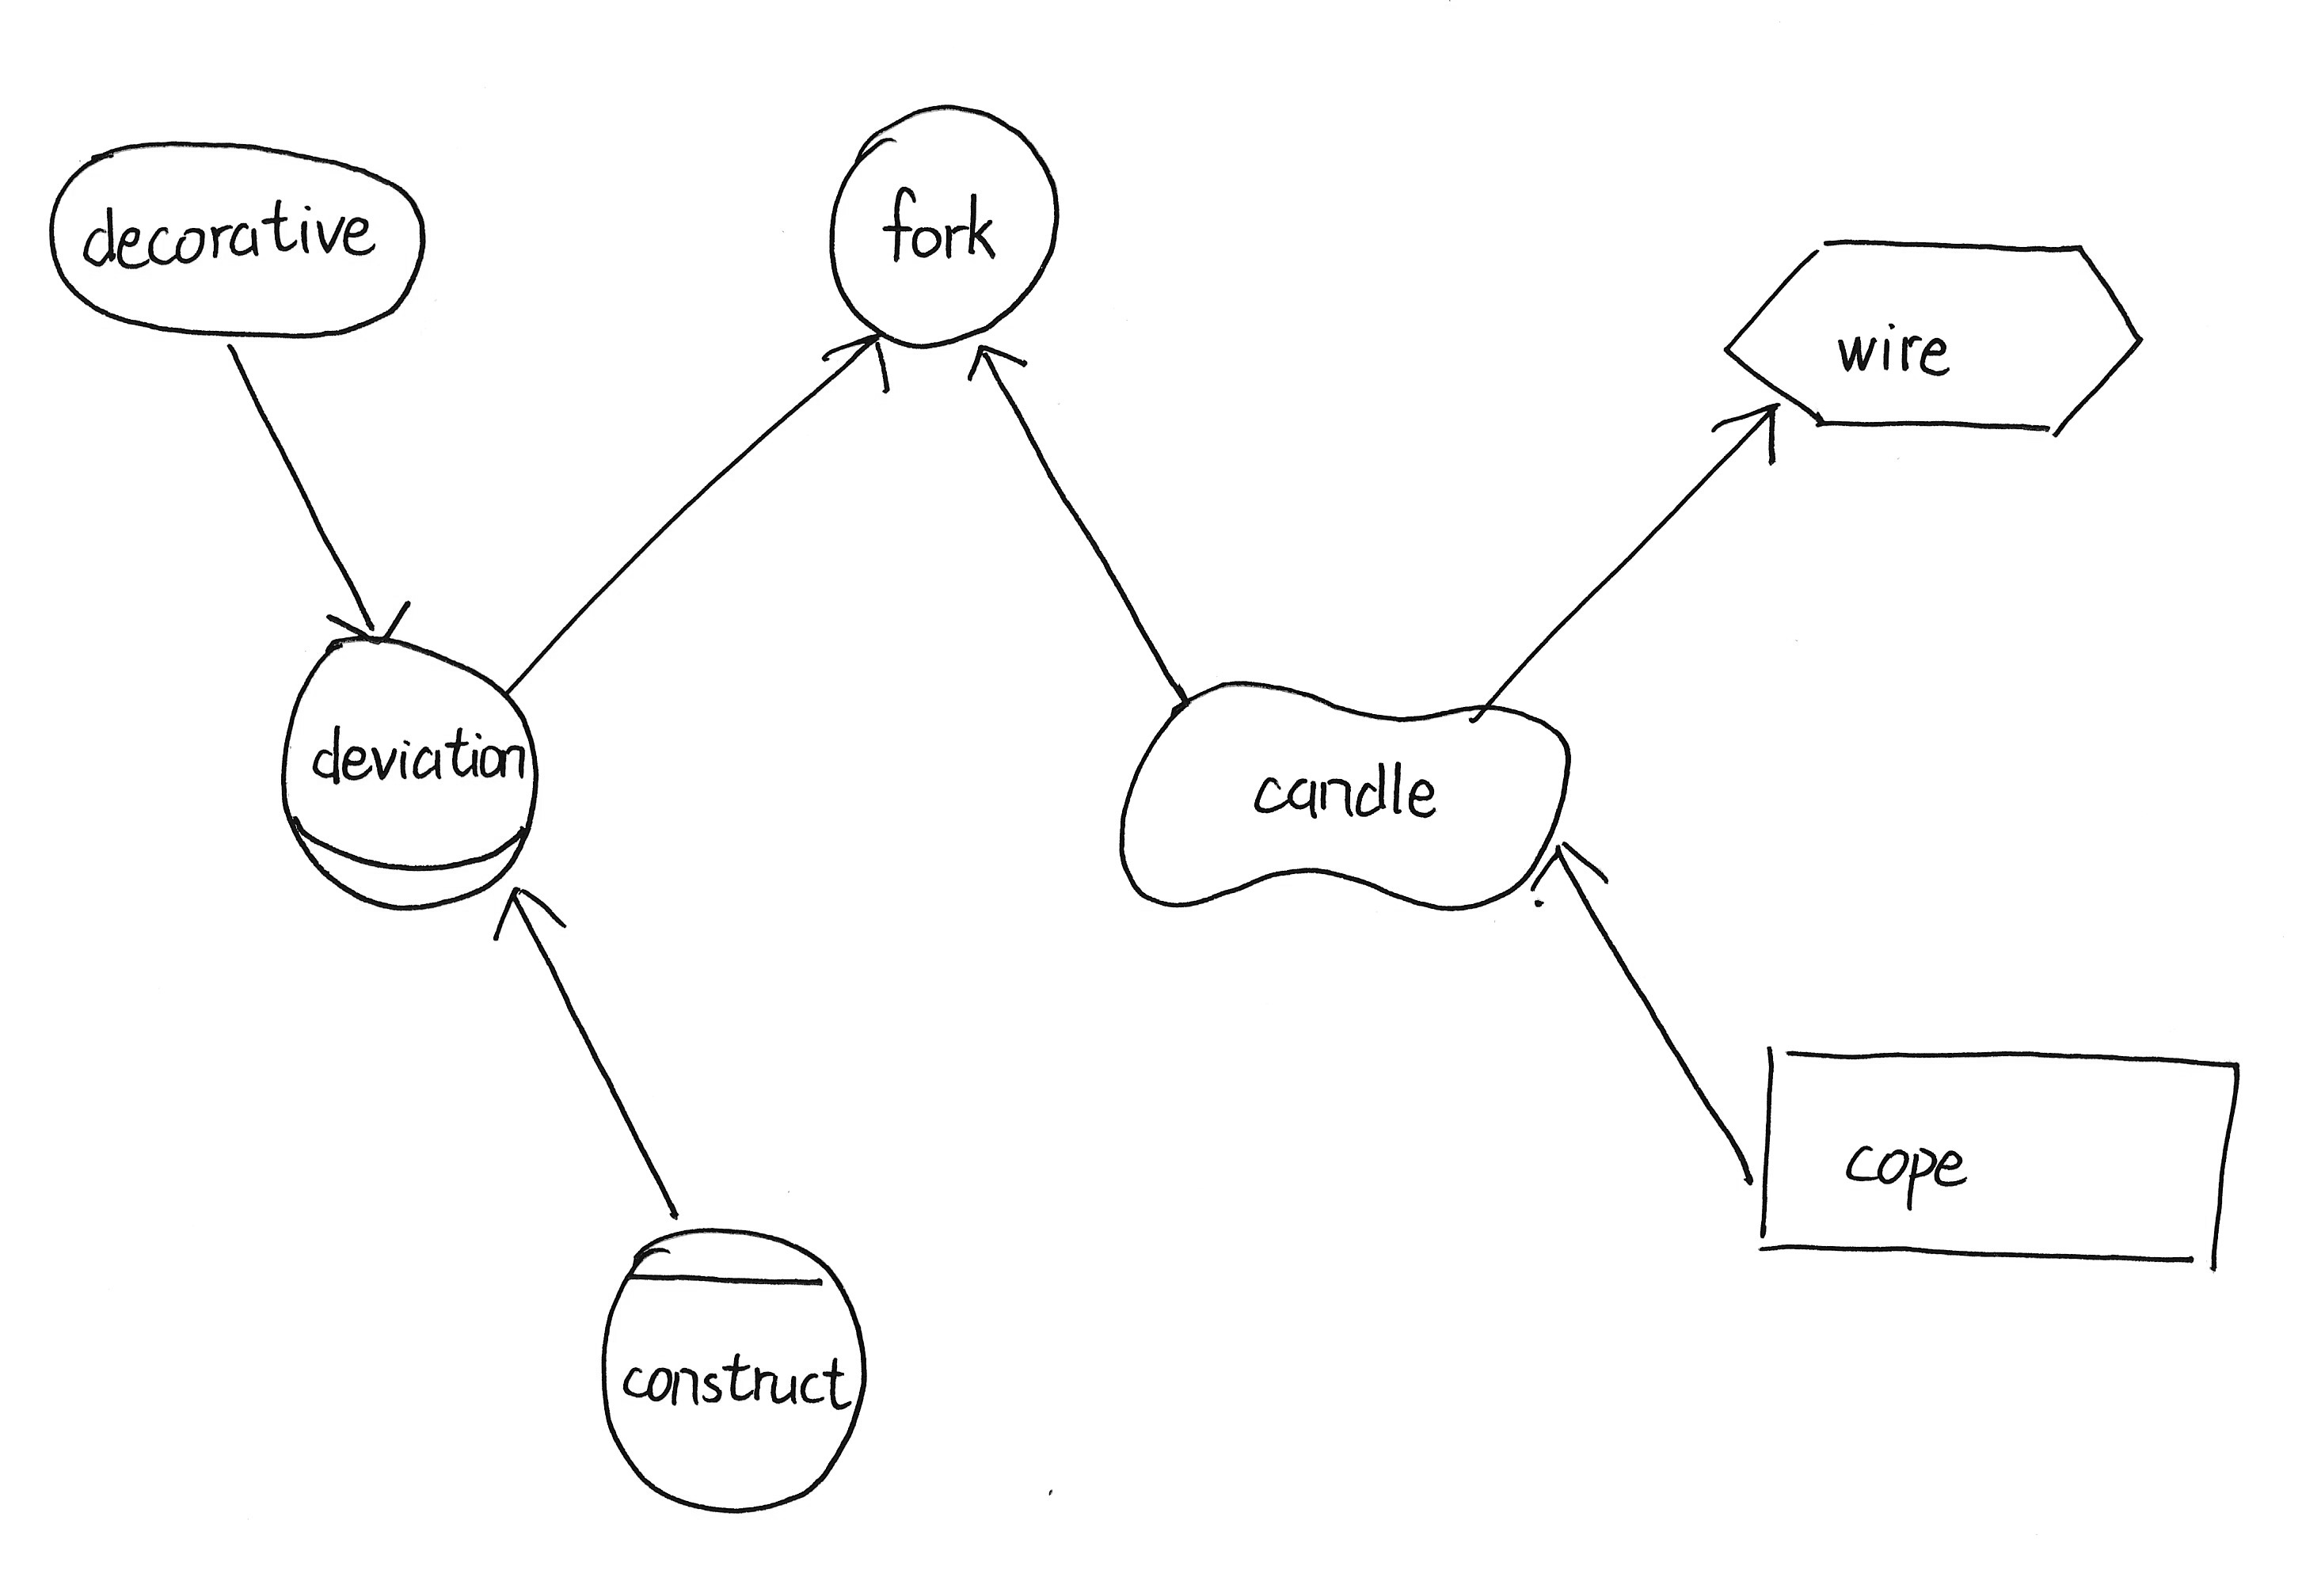actor: (815, 94, 1072, 365)
agent: (577, 1211, 882, 1526)
arrow: (1692, 388, 1800, 491), (803, 320, 899, 406), (479, 874, 572, 956), (1522, 836, 1623, 909), (318, 591, 420, 652), (953, 327, 1041, 395)
goal: (26, 117, 443, 365)
quality: (1097, 663, 1583, 930)
resource: (1740, 1024, 2260, 1290)
role: (266, 617, 563, 928)
task: (1706, 210, 2164, 453)
